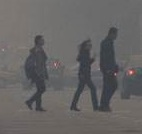person: (69, 39, 103, 112), (23, 34, 51, 112), (98, 26, 120, 112)
